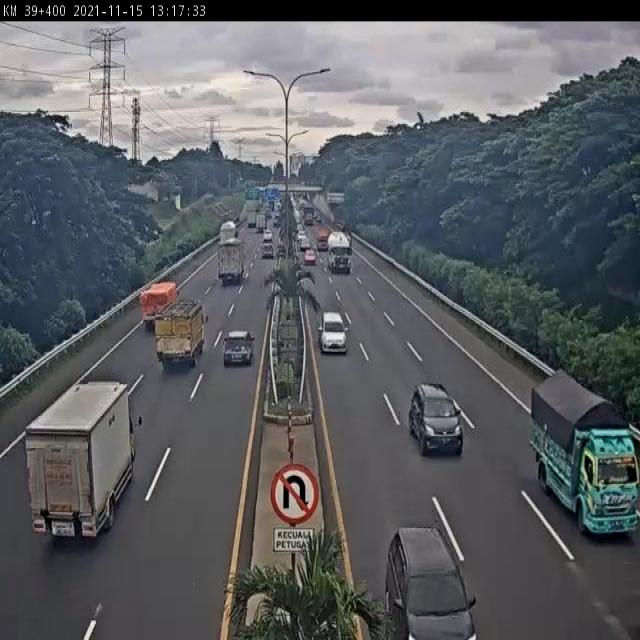Car: (384, 526, 475, 638), (408, 381, 464, 454), (318, 310, 349, 354), (223, 330, 255, 366), (304, 249, 317, 266)
Truck: (530, 371, 640, 537), (25, 380, 138, 540), (155, 299, 205, 366), (141, 281, 179, 329), (217, 237, 245, 286), (328, 232, 352, 274), (262, 232, 274, 258)
